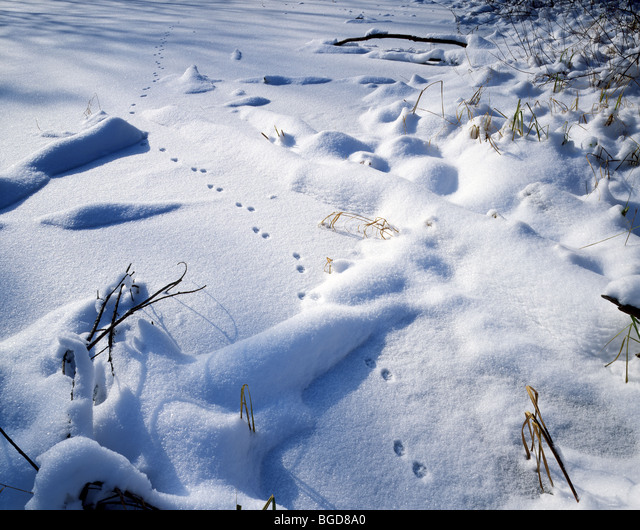fox: (408, 460, 432, 484), (391, 440, 408, 460), (377, 366, 394, 383), (363, 355, 378, 371)
